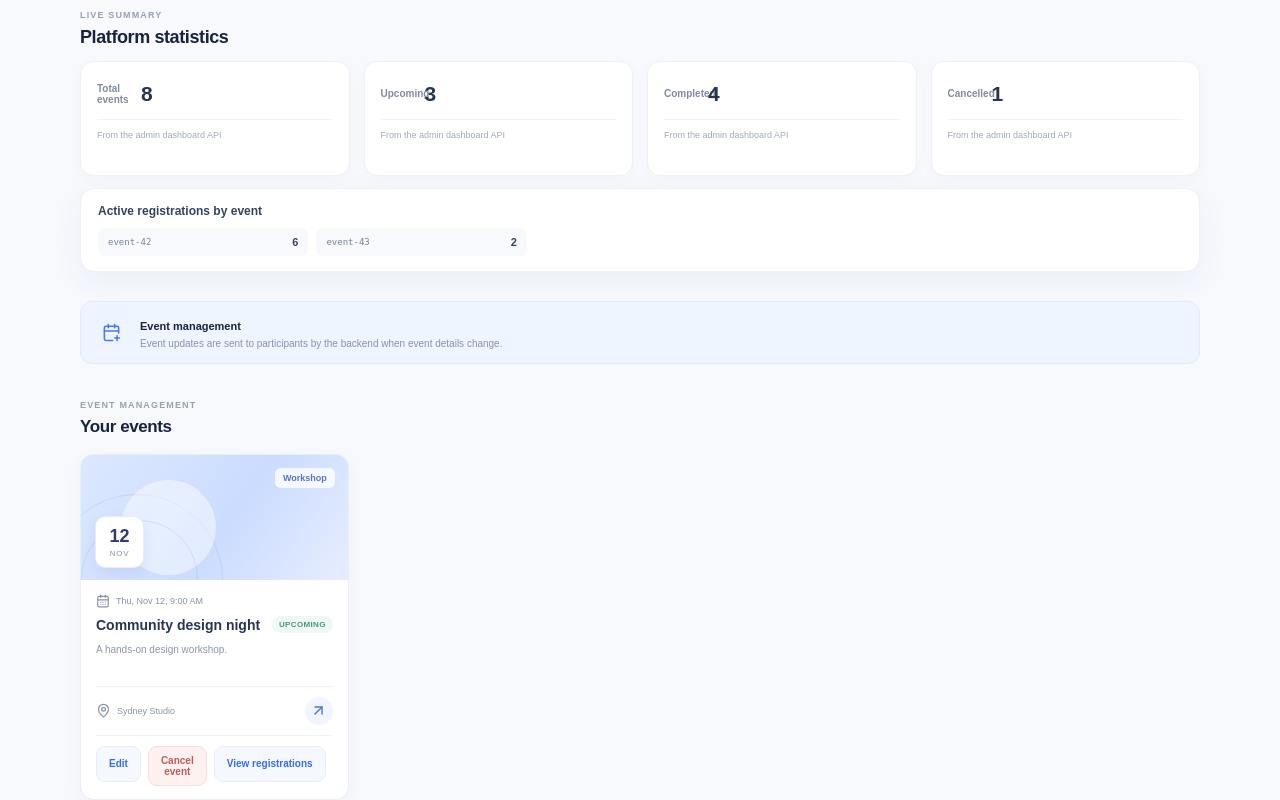
it: admin event actions › cancels an event through the admin confirmation flow
The image size is (1280, 800).
(page scrolled)
Click the button "Cancel event" at (177, 766), box [148, 746, 207, 786]
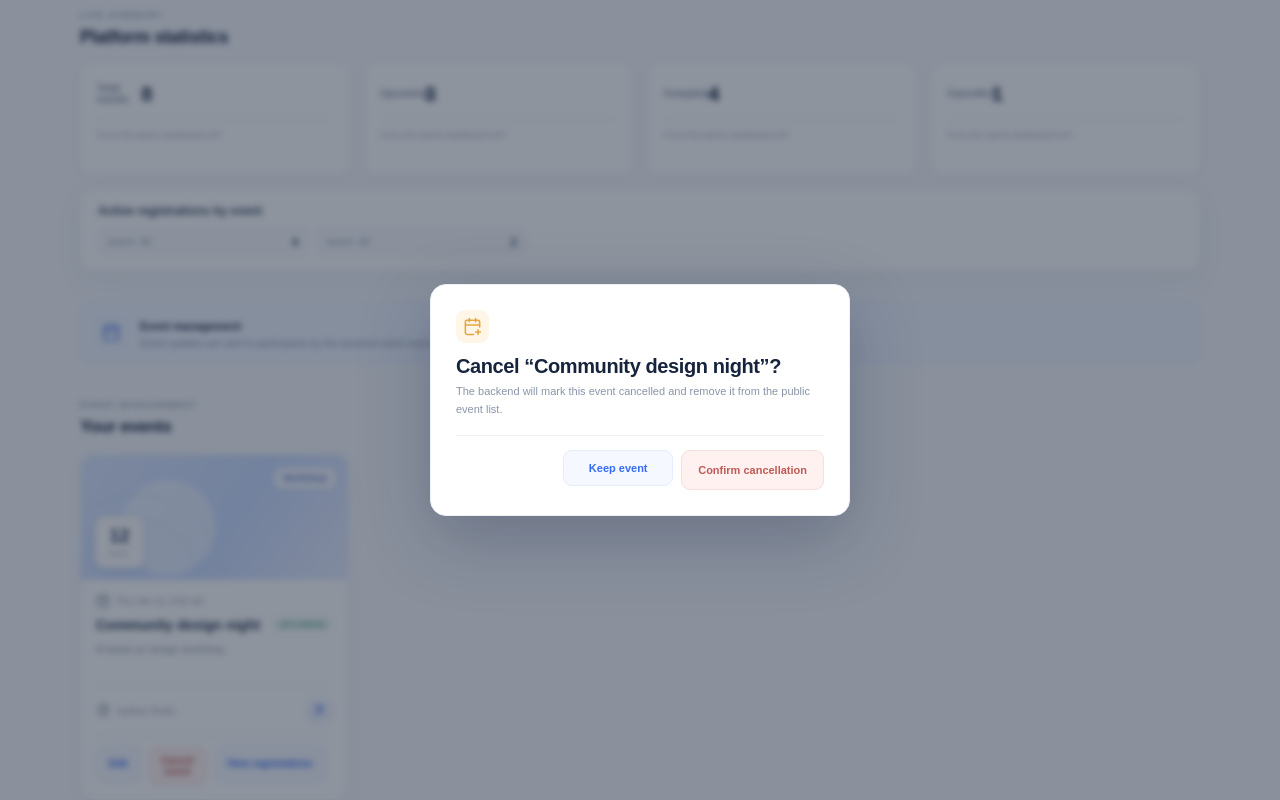
Click the button "Confirm cancellation" at (753, 470), box [681, 450, 824, 490]
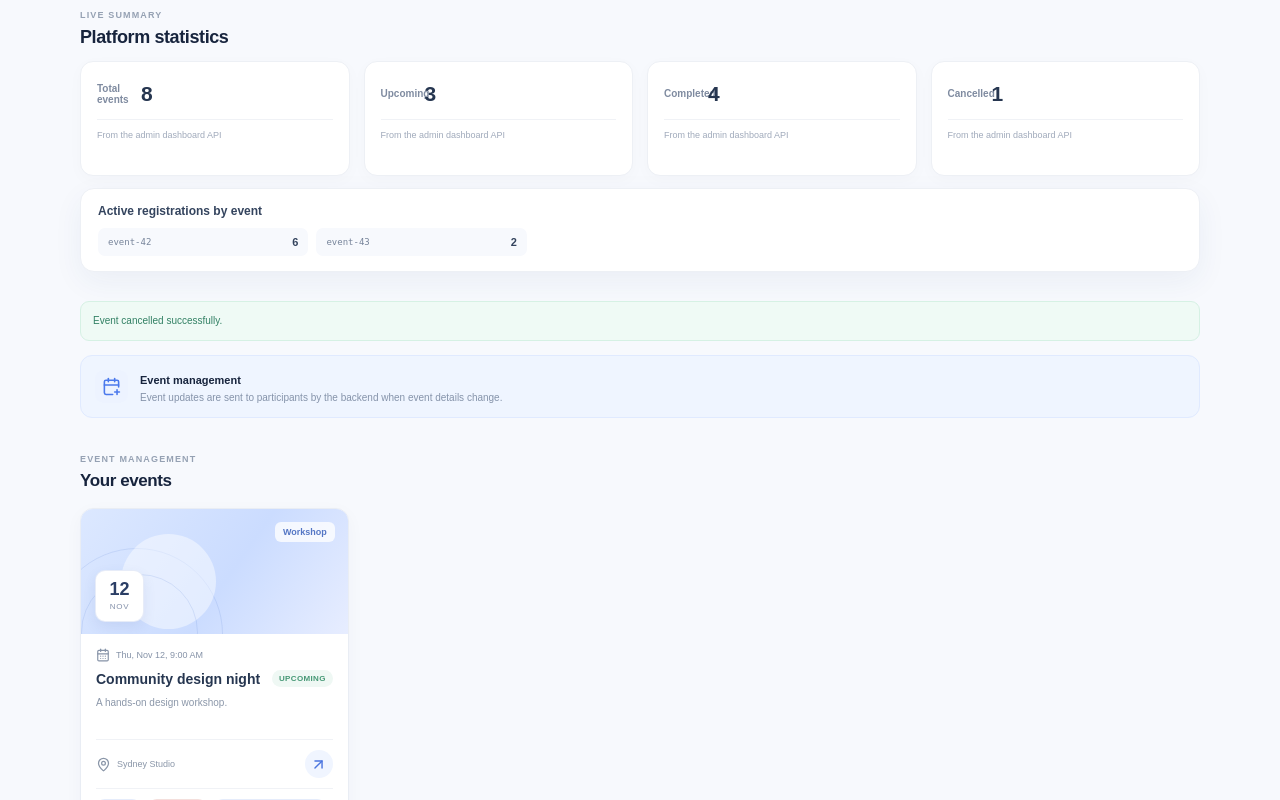
Check: the message reads "Event cancelled successfully.", box [93, 315, 222, 326]
